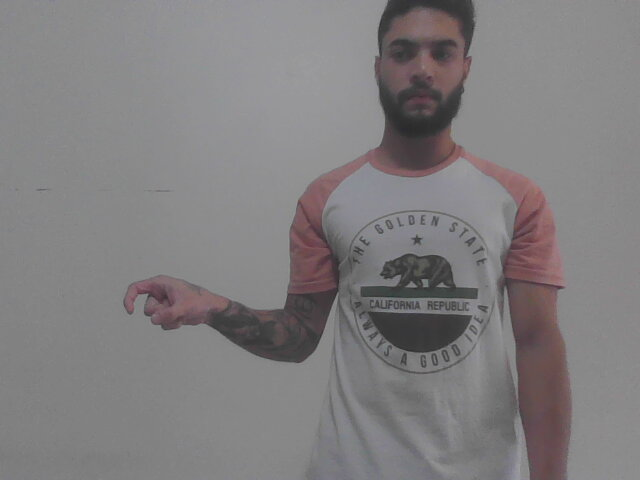x: (118, 264, 221, 355)
